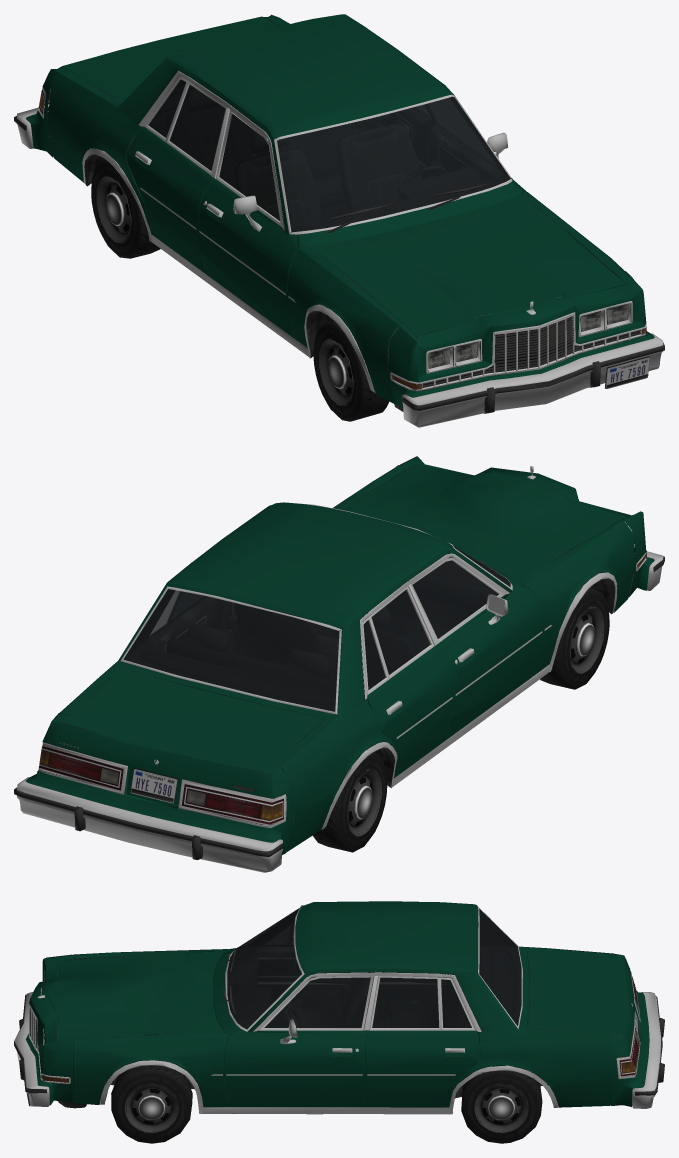
Rendered from negotiator-80.glb.
3 views of the same model, one above another, from view 1: azimuth 30°, elevation 25°; view 2: azimuth 150°, elevation 25°; view 3: azimuth 270°, elevation 25° (orthographic). The views are drawn at different scales.
Visible parts, largest first — view 1: Negotiator80_Blinkers_UCB_Lights_and_Glass_0; view 2: Negotiator80_Blinkers_UCB_Lights_and_Glass_0; view 3: Negotiator80_Blinkers_UCB_Lights_and_Glass_0.
Part boxes in pixels (x1,y1,x2,y2): Negotiator80_Blinkers_UCB_Lights_and_Glass_0: (14, 14, 664, 427); Negotiator80_Blinkers_UCB_Lights_and_Glass_0: (14, 456, 664, 872); Negotiator80_Blinkers_UCB_Lights_and_Glass_0: (14, 901, 664, 1143).
Bounding box in the file's own units: 1.7 × 1.27 × 4.5.
8 materials, 7 textured.
